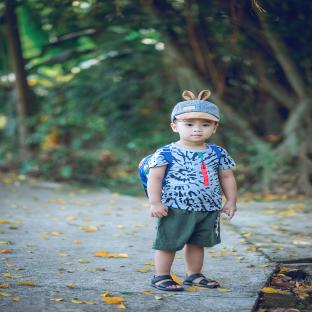Human: (140, 90, 237, 291)
